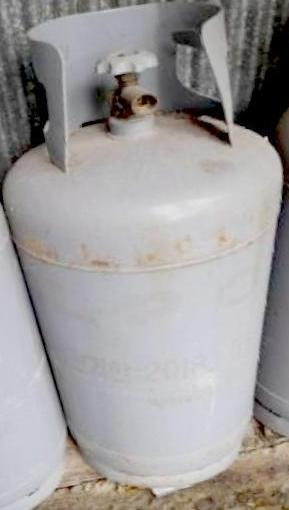cylinder: (1, 0, 289, 510)
